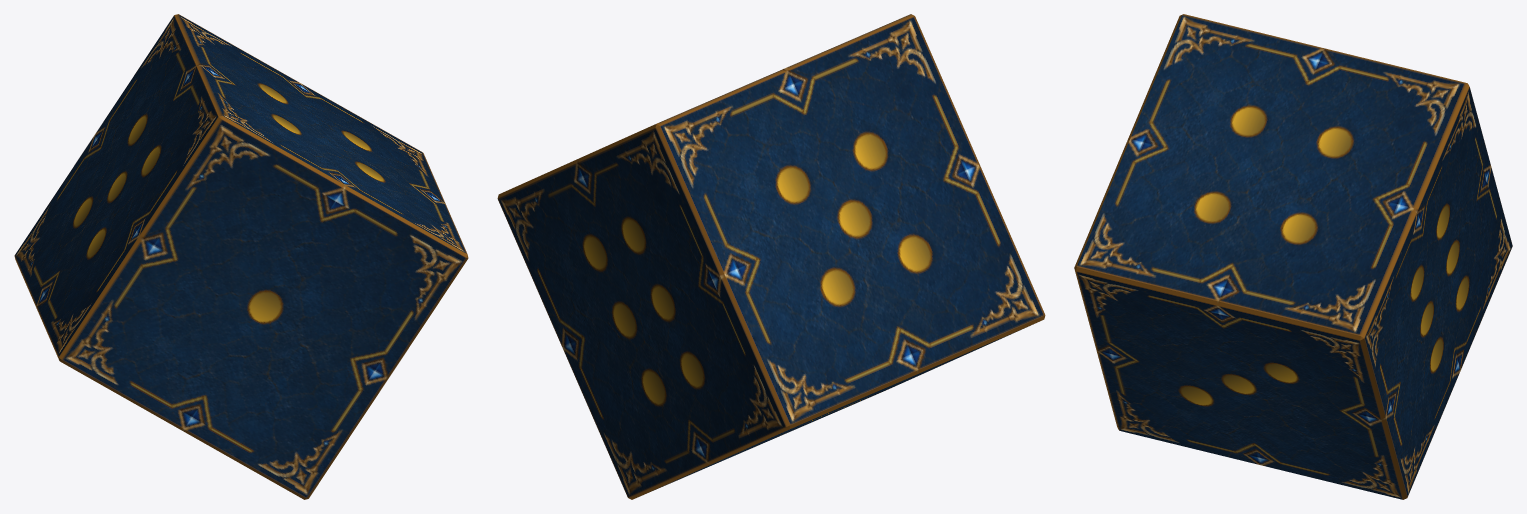
File: Dice.fbx
The picture shows the model from 3 angles, left to right: view 1: azimuth 30°, elevation 25°; view 2: azimuth 150°, elevation 25°; view 3: azimuth 270°, elevation 25°; orthographic projection. The views are drawn at different scales.
Visible parts, largest first — view 1: Dice; view 2: Dice; view 3: Dice.
Boxes of the visible parts, x1,y1,x2,y2 form: Dice: [14, 14, 468, 499]; Dice: [497, 14, 1045, 499]; Dice: [1074, 14, 1512, 499].
Bounding box in the file's own units: 164 × 145 × 140.
